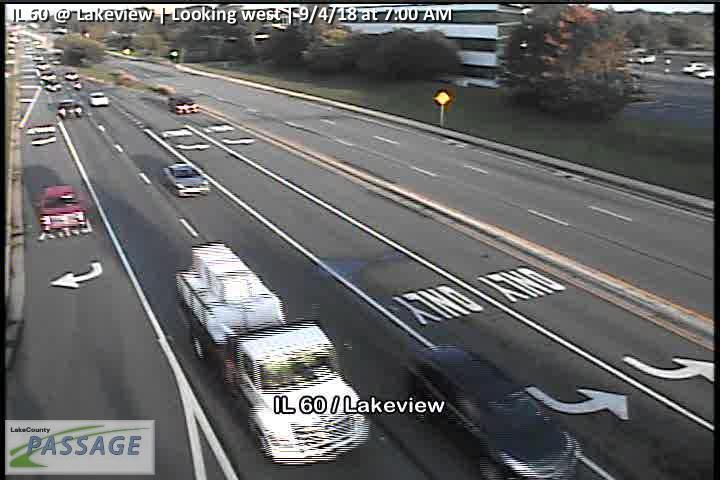Motorbike: (72, 80, 81, 90)
SUV: (55, 99, 84, 119)
Sedan: (407, 343, 583, 480), (35, 185, 85, 232), (162, 164, 210, 198), (169, 93, 200, 113), (89, 91, 109, 106)
Truck: (172, 240, 371, 467)
